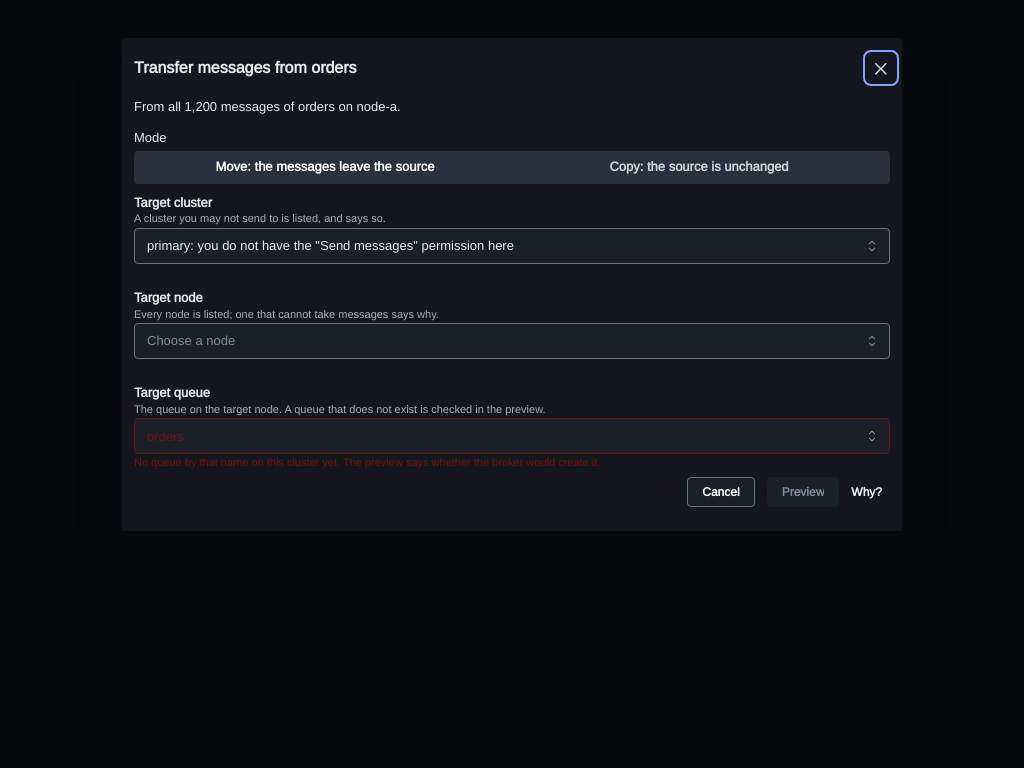
TransferDialog what may not be done › blocks on the target when the operator may move but not send
Step 1. Click the button with aria-label "Why previewing this transfer is unavailable" → (867,492), box x1=843 y1=480 x2=890 y2=504
(page scrolled)
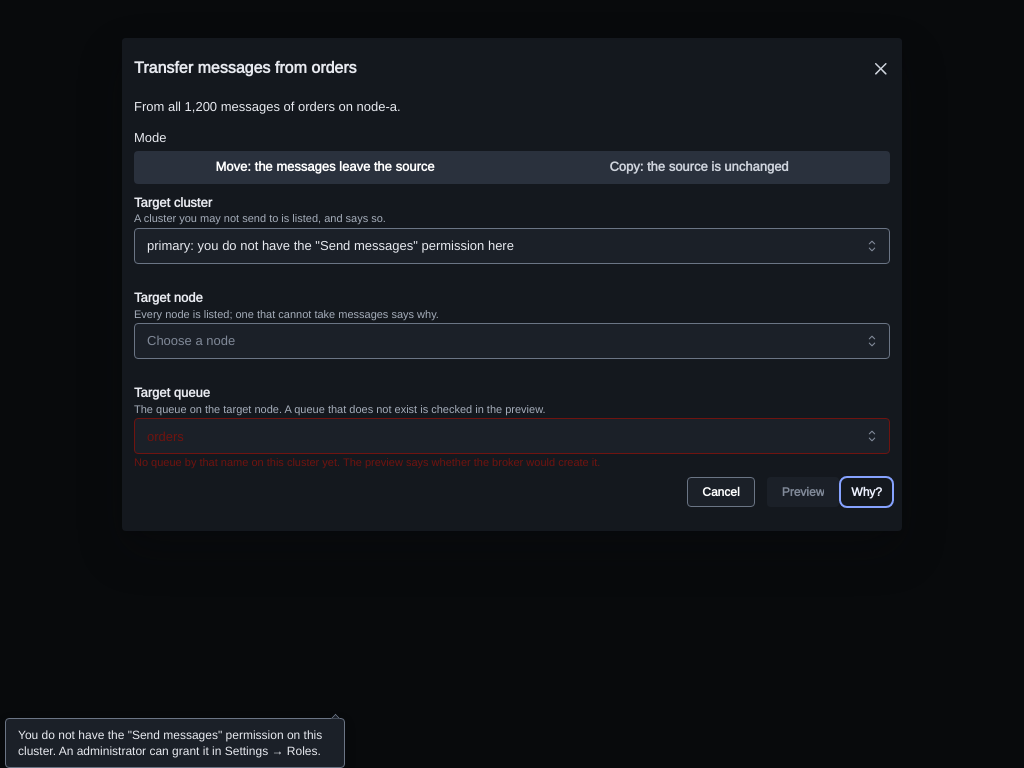
Now the text "You do not have the \"Send messages\" permission" is shown, box x1=18 y1=726 x2=322 y2=759
